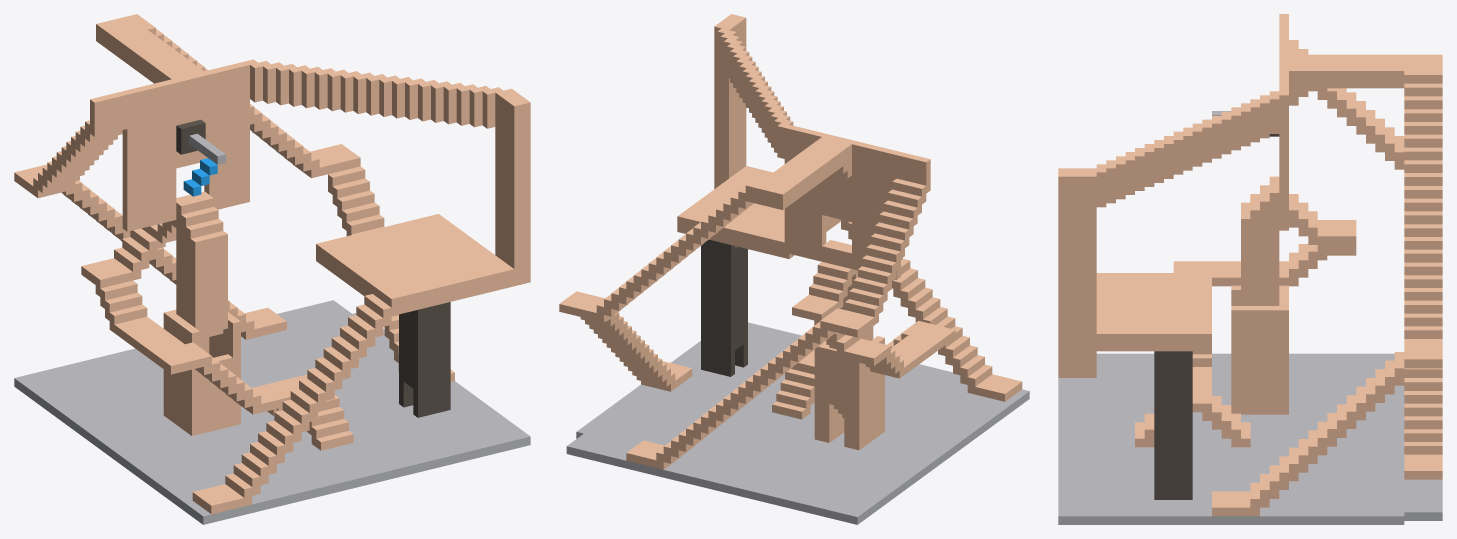
File: mcEscher.obj
3 renders of one model, left to right at view 1: azimuth 30°, elevation 25°; view 2: azimuth 150°, elevation 25°; view 3: azimuth 270°, elevation 25°, orthographic. The views are drawn at different scales.
Bounding box in the file's own units: 40 × 40 × 40.
1 material, 1 textured.
